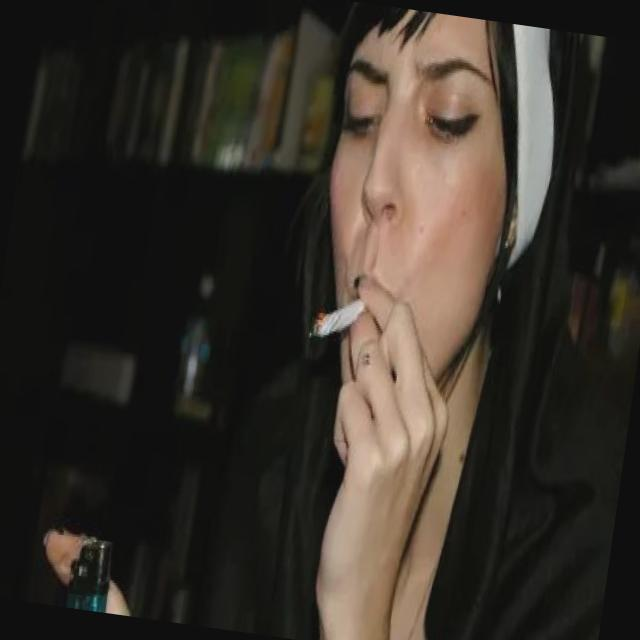cigarette: (307, 286, 371, 352)
